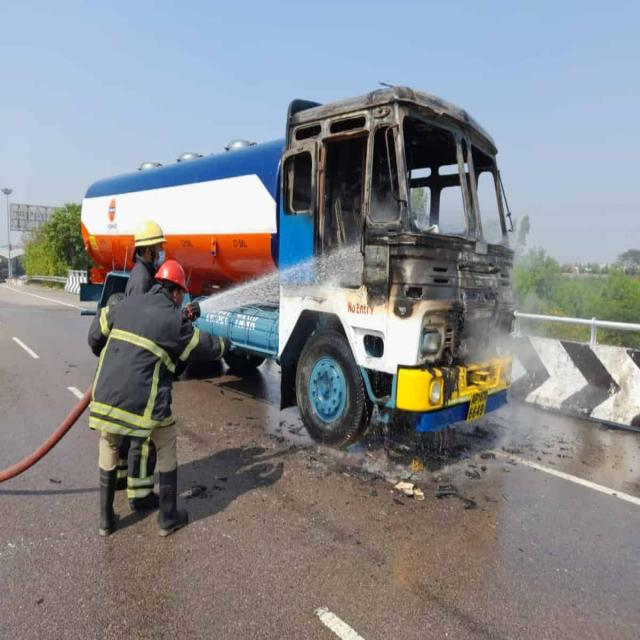accident: (81, 87, 514, 443)
